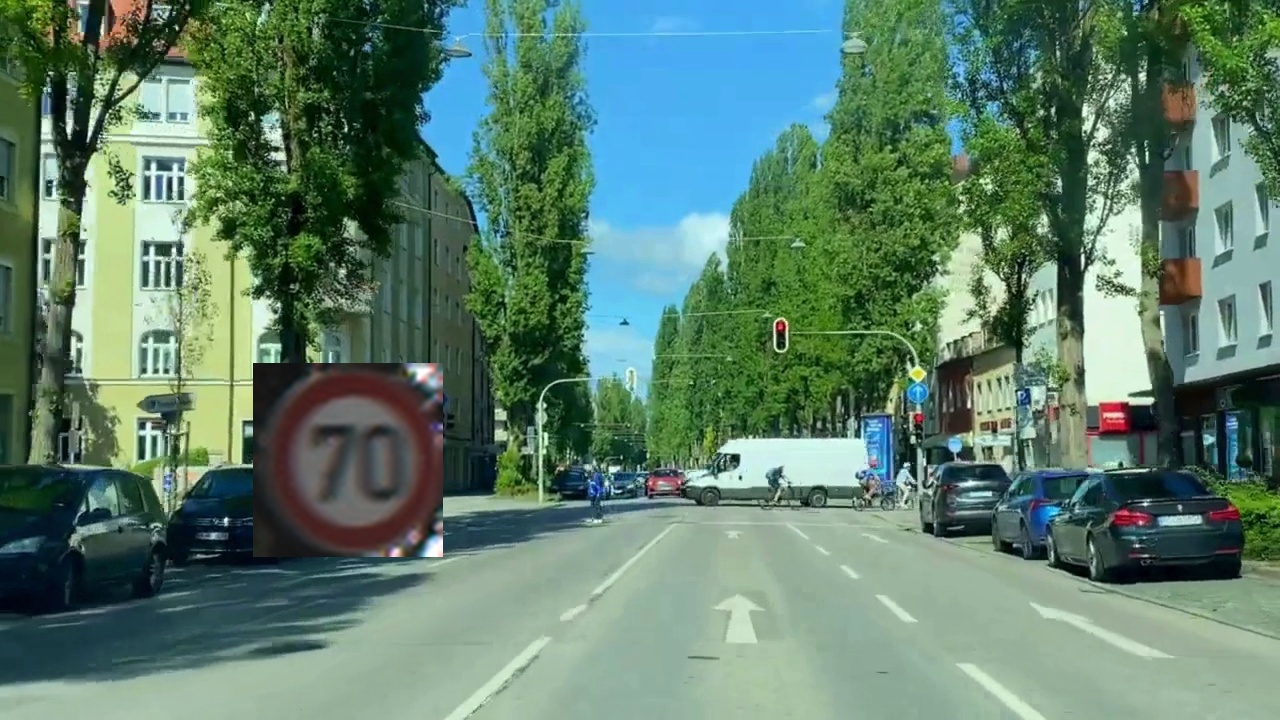Speed 70: (253, 363, 443, 557)
